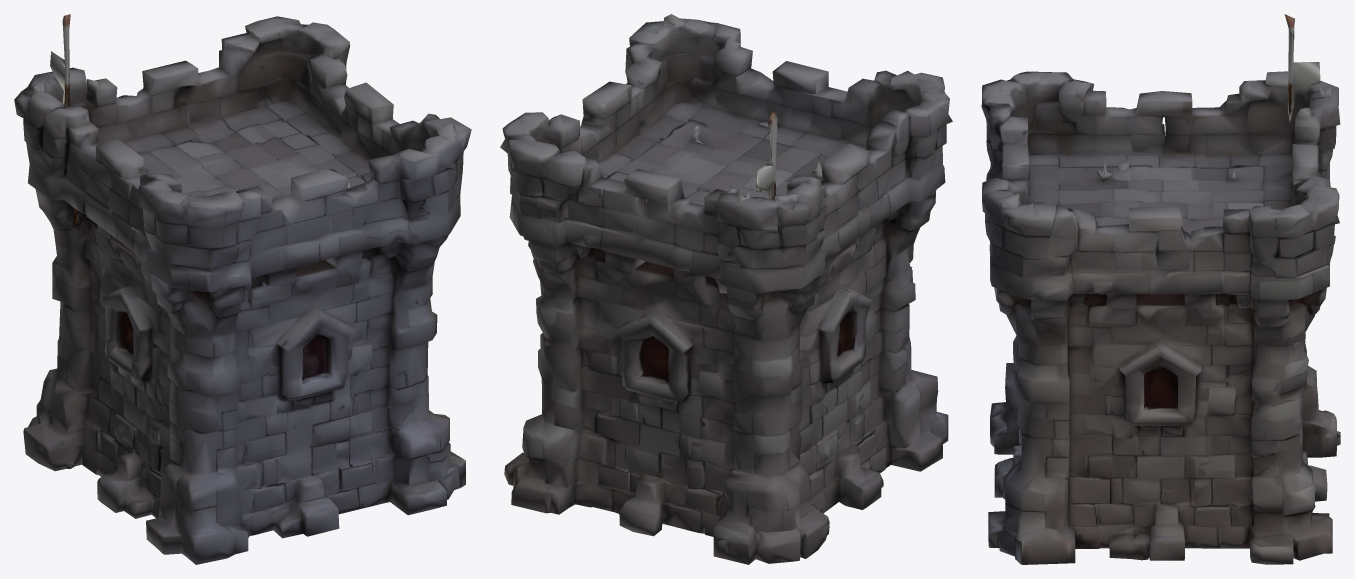
File: castle_keep.glb
3 renders of one model, left to right at view 1: azimuth 30°, elevation 25°; view 2: azimuth 150°, elevation 25°; view 3: azimuth 270°, elevation 25°, orthographic. The views are drawn at different scales.
Visible parts, largest first — view 1: tripo_node_133f6b2f-e947-4f12-a69b-a7fe568a22b4; view 2: tripo_node_133f6b2f-e947-4f12-a69b-a7fe568a22b4; view 3: tripo_node_133f6b2f-e947-4f12-a69b-a7fe568a22b4.
Part boxes in pixels (bbox=[...]): tripo_node_133f6b2f-e947-4f12-a69b-a7fe568a22b4: bbox=[14, 14, 471, 564]; tripo_node_133f6b2f-e947-4f12-a69b-a7fe568a22b4: bbox=[500, 14, 952, 564]; tripo_node_133f6b2f-e947-4f12-a69b-a7fe568a22b4: bbox=[981, 14, 1340, 564].
Size of the model in its own units: 0.7496 by 1 by 0.7641.
Materials: 1 (1 with a texture image).
